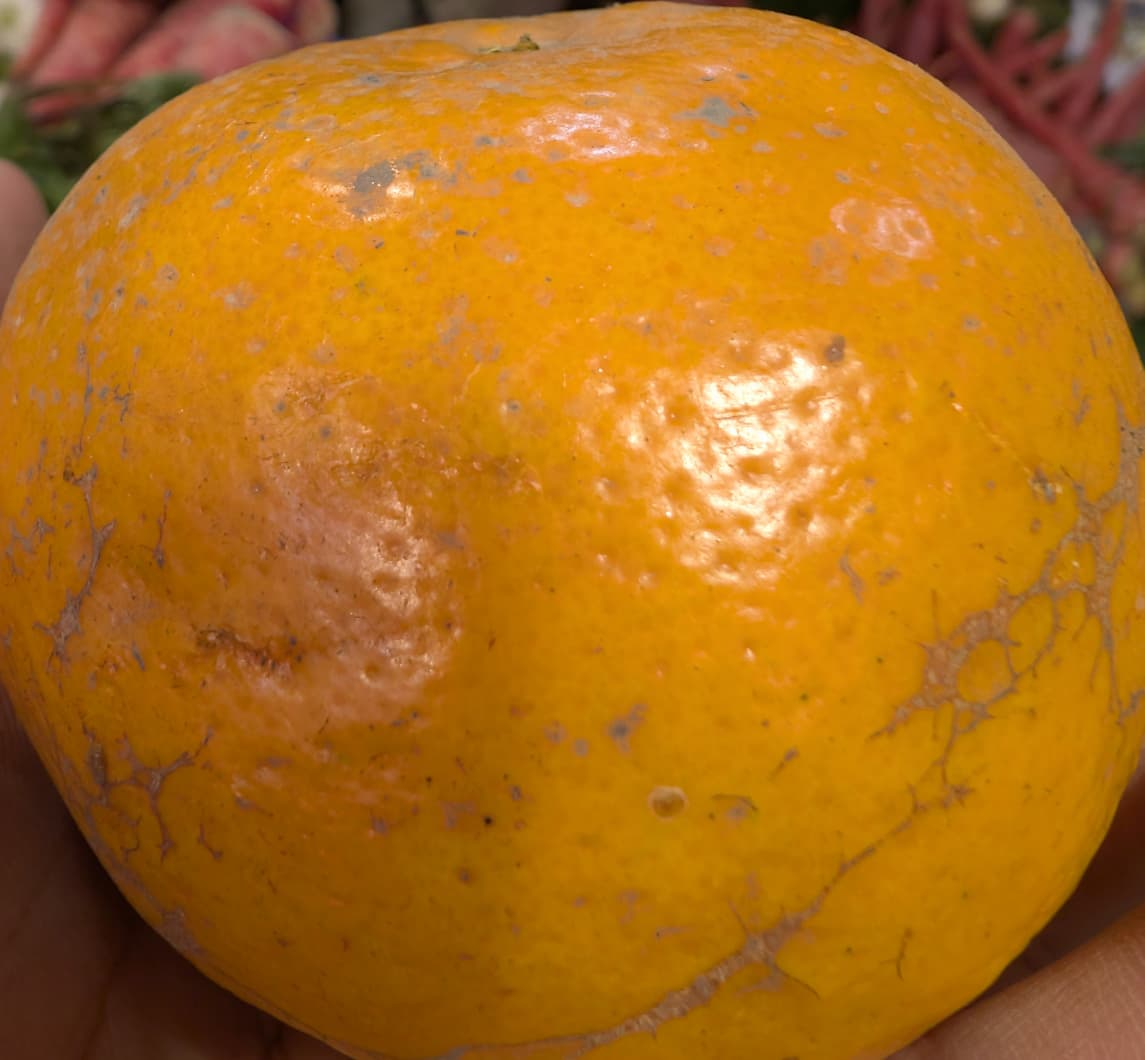orange: (200, 275, 1009, 920)
